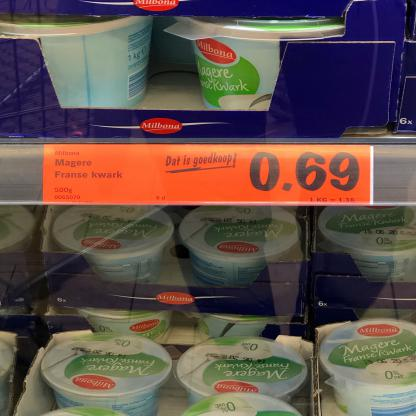prtg: (44, 144, 372, 207)
